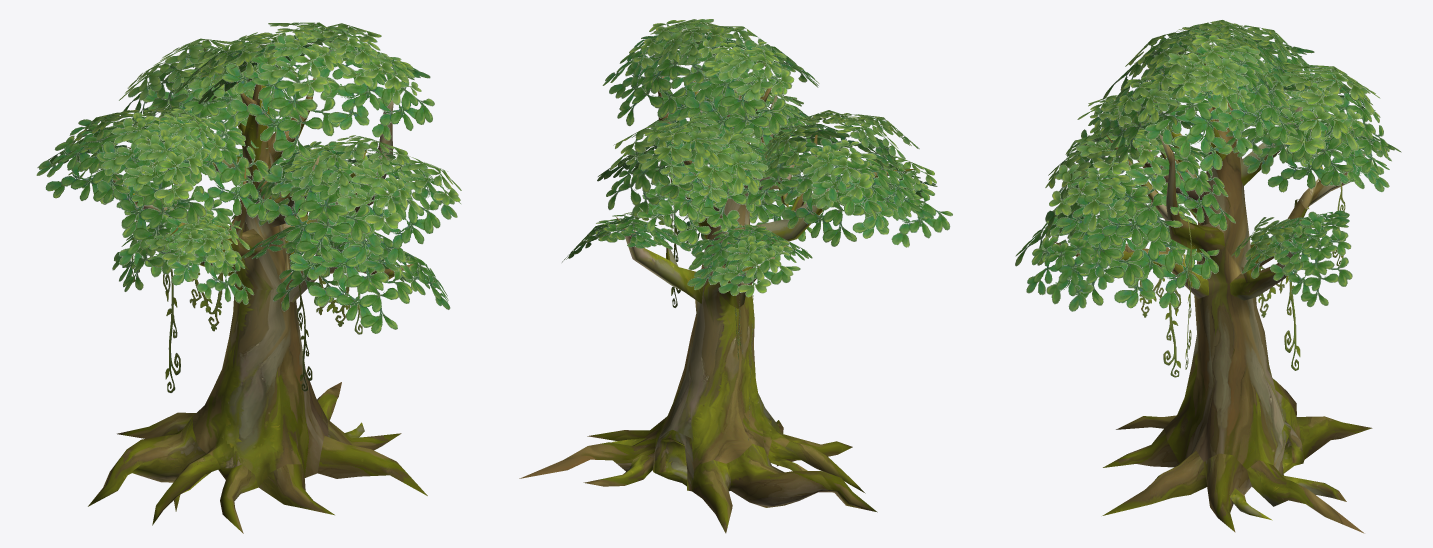
File: Map_07_tree07.FBX
The picture shows the model from 3 angles, left to right: view 1: azimuth 30°, elevation 25°; view 2: azimuth 150°, elevation 25°; view 3: azimuth 270°, elevation 25°; orthographic projection. The views are drawn at different scales.
Parts seen in each view (by area): view 1: Map_07_tree07a, Map_07_tree07b; view 2: Map_07_tree07a, Map_07_tree07b; view 3: Map_07_tree07a, Map_07_tree07b.
Part boxes in pixels (x1,y1,x2,y2): Map_07_tree07a: [36, 22, 461, 392]; Map_07_tree07b: [88, 48, 427, 533]; Map_07_tree07a: [562, 19, 952, 440]; Map_07_tree07b: [519, 76, 917, 533]; Map_07_tree07a: [1015, 20, 1401, 377]; Map_07_tree07b: [1053, 55, 1372, 533].
Size of the model in its own units: 690 by 815 by 684.
2 materials, 2 textured.
